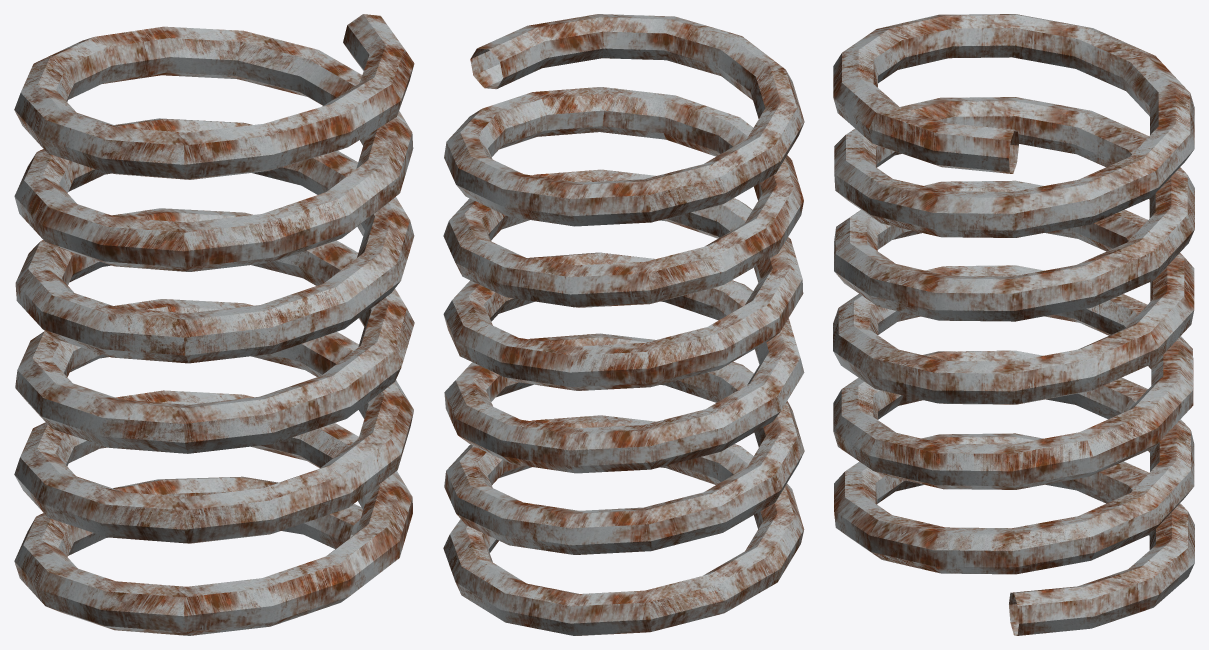
File: spring_4.glb
3 views of the same model, side by side, from view 1: azimuth 30°, elevation 25°; view 2: azimuth 150°, elevation 25°; view 3: azimuth 270°, elevation 25° (orthographic). The views are drawn at different scales.
Visible parts, largest first — view 1: spring_4; view 2: spring_4; view 3: spring_4.
Part boxes in pixels (x1,y1,x2,y2): spring_4: (14, 14, 414, 635); spring_4: (443, 14, 804, 635); spring_4: (833, 14, 1194, 635).
Size of the model in its own units: 0.16 by 0.2399 by 0.156.
Materials: 1 (1 with a texture image).
